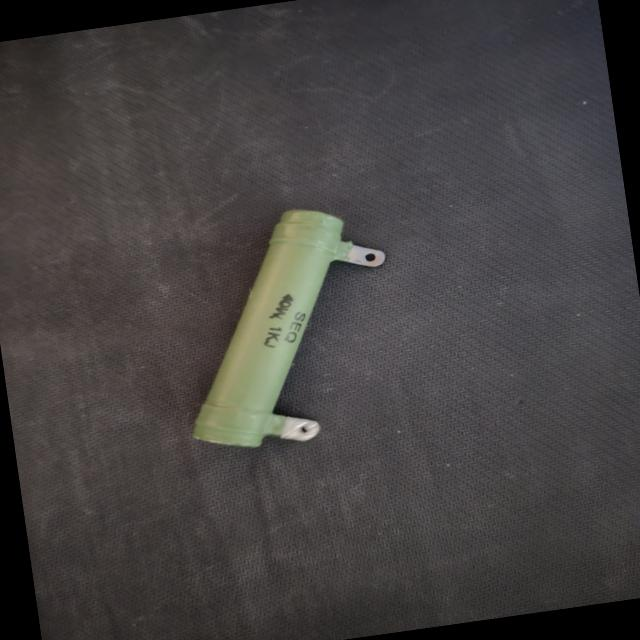resistor: (158, 192, 424, 468)
